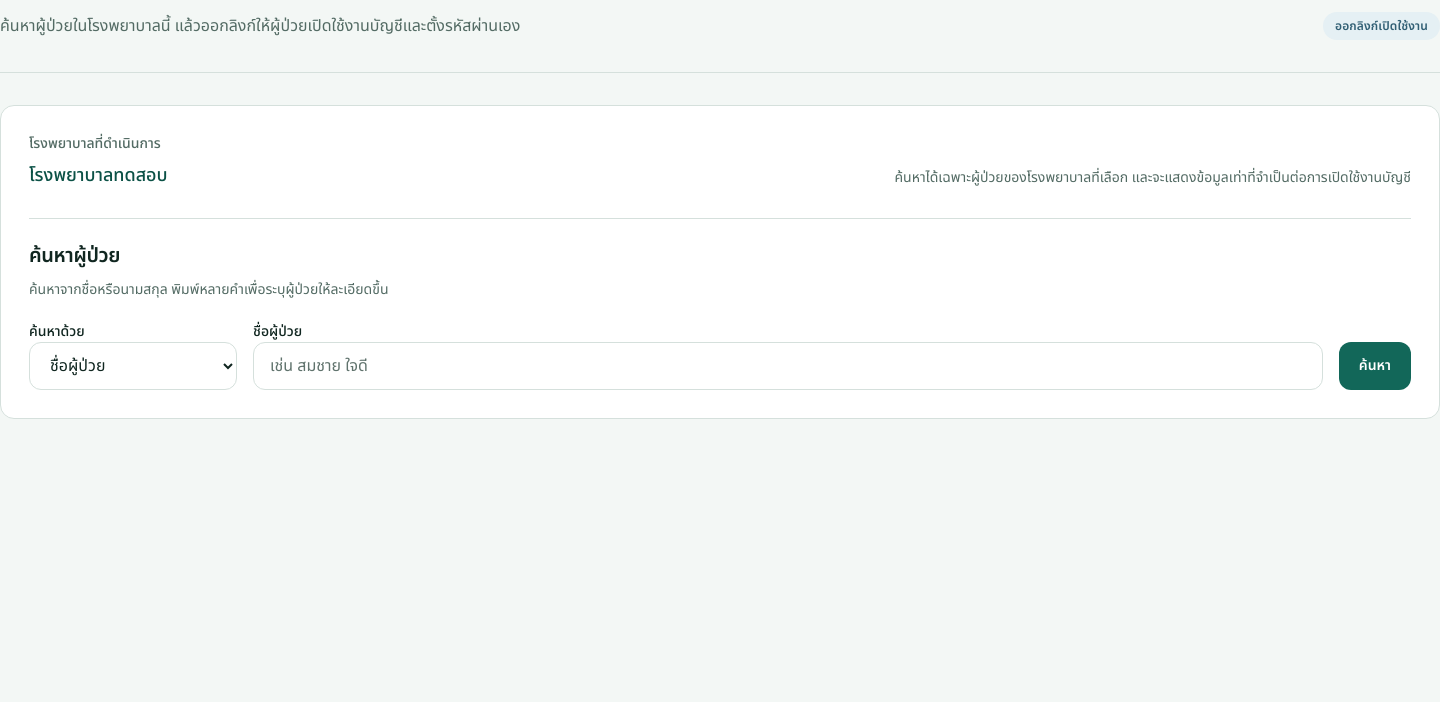
Test: Patient activation search and link issuance › issuance feedback › keeps reconciliation errors inline without a Toast
Type "สมชาย" into the field named "value" at (788, 366), box x1=253 y1=342 x2=1323 y2=390
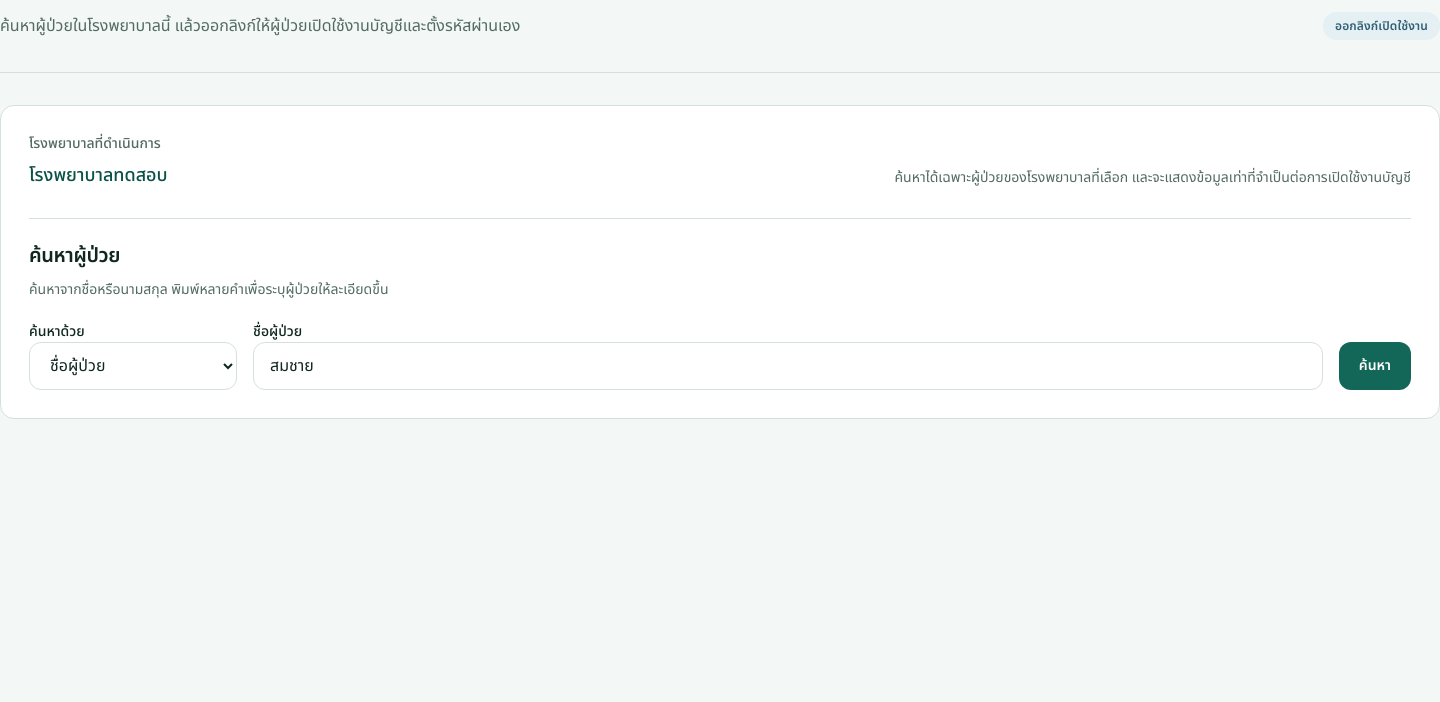
Click the button "ค้นหา" at (1375, 366), box x1=1339 y1=342 x2=1411 y2=390
(page scrolled)
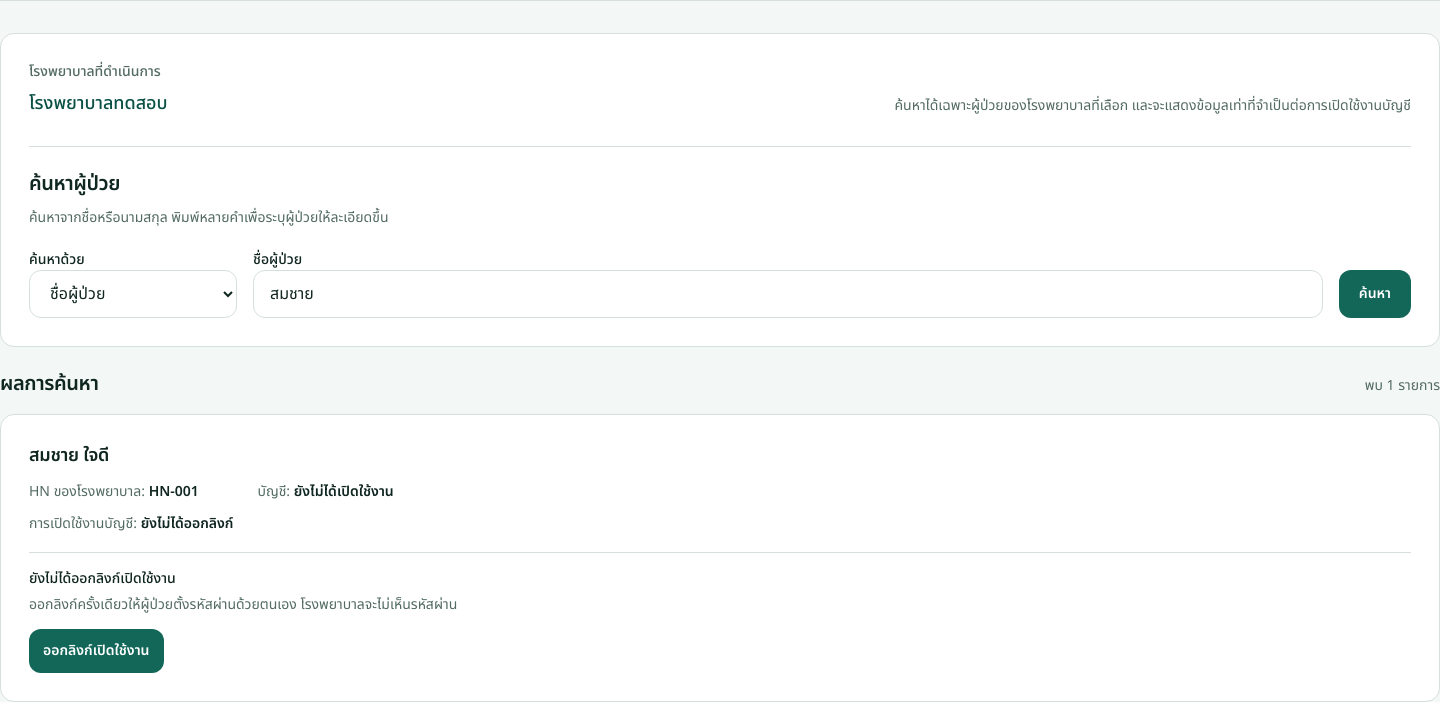
Click the submit button at (96, 651), box x1=29 y1=629 x2=164 y2=673
(page scrolled)
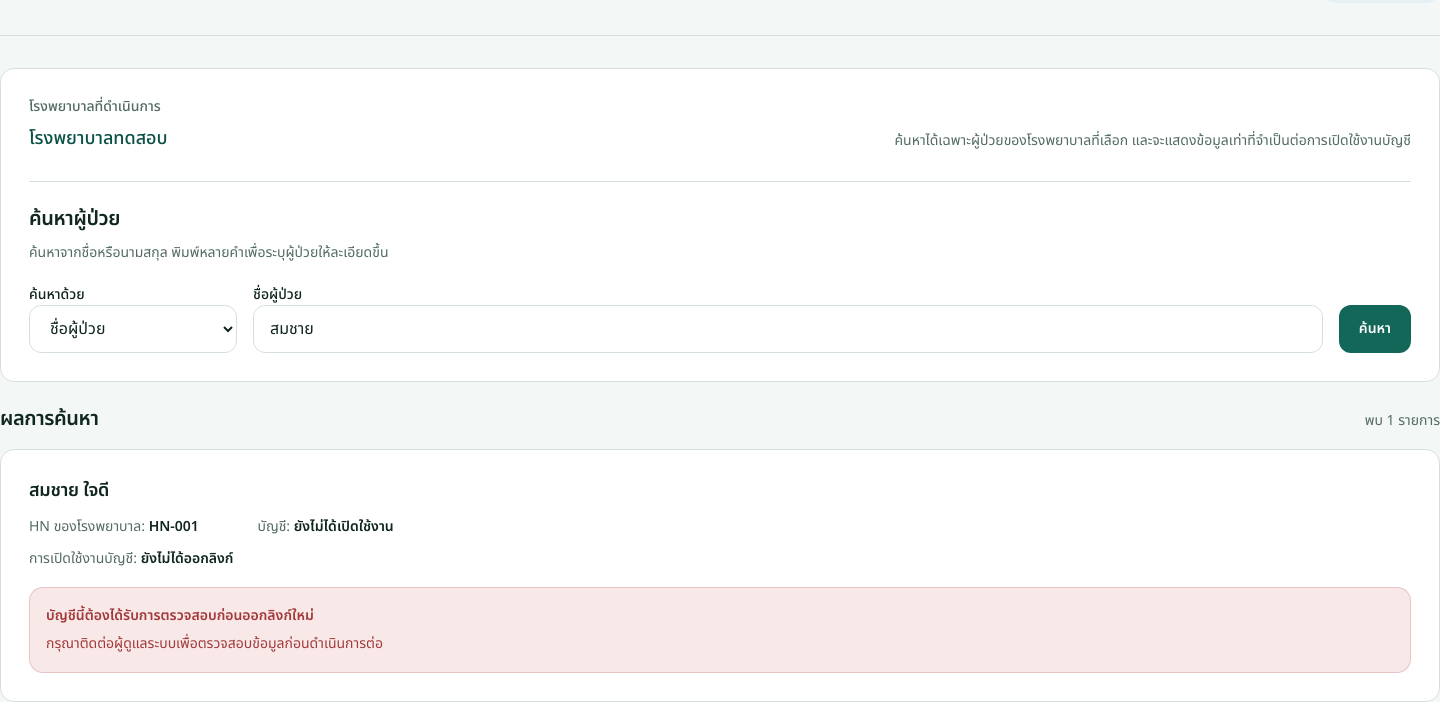
Check: the text "บัญชีนี้ต้องได้รับการตรวจสอบก่อนออกลิงก์ใหม่" is shown, box x1=46 y1=605 x2=314 y2=626
